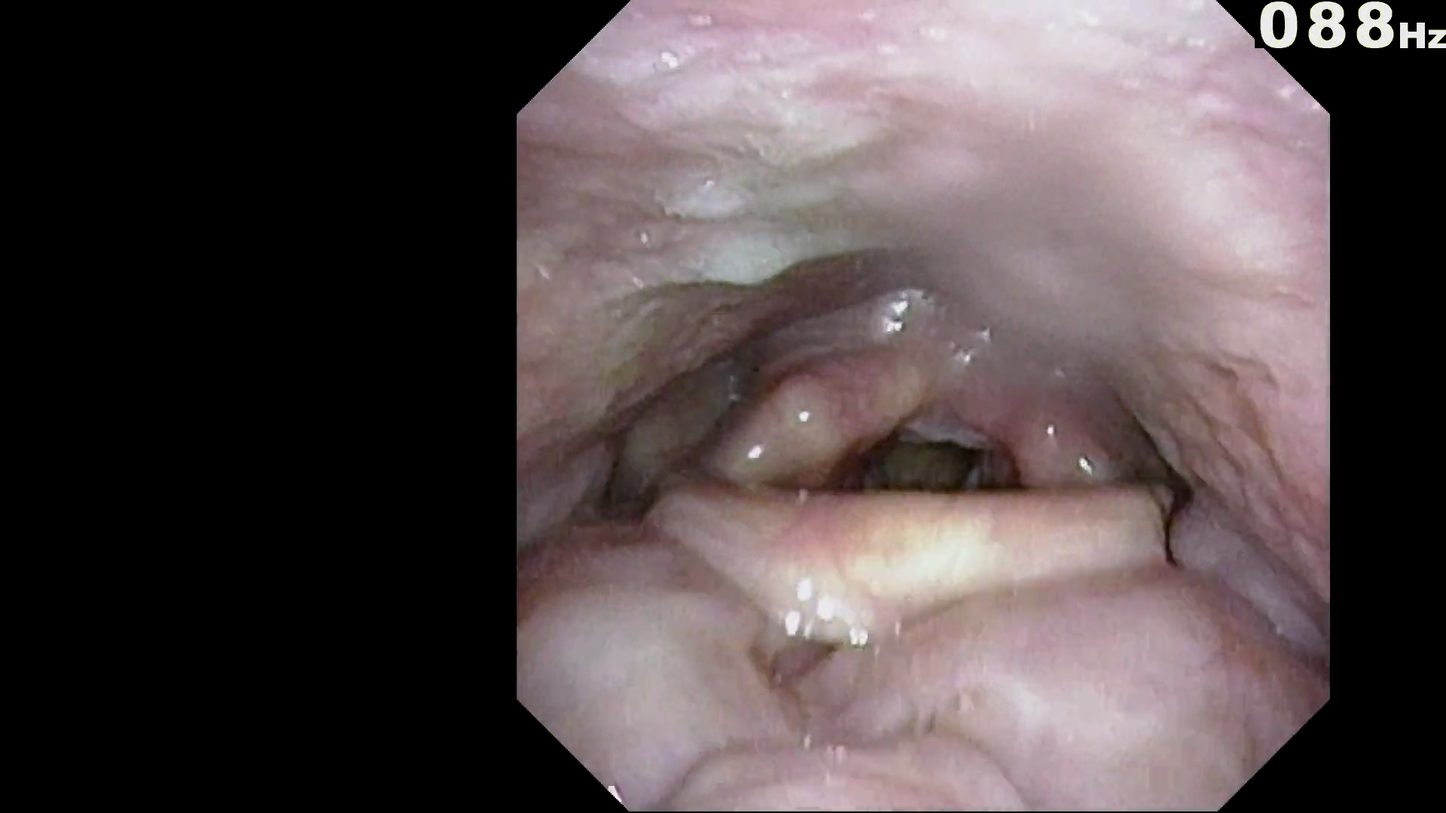epiglottis: (628, 478, 1172, 638)
trachea: (859, 417, 982, 514)
